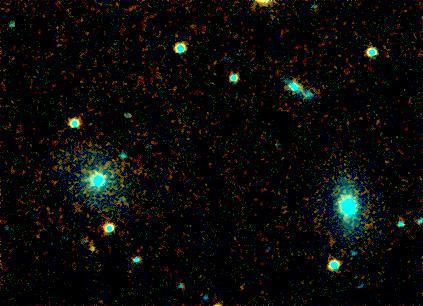star: (77, 235, 107, 265)
